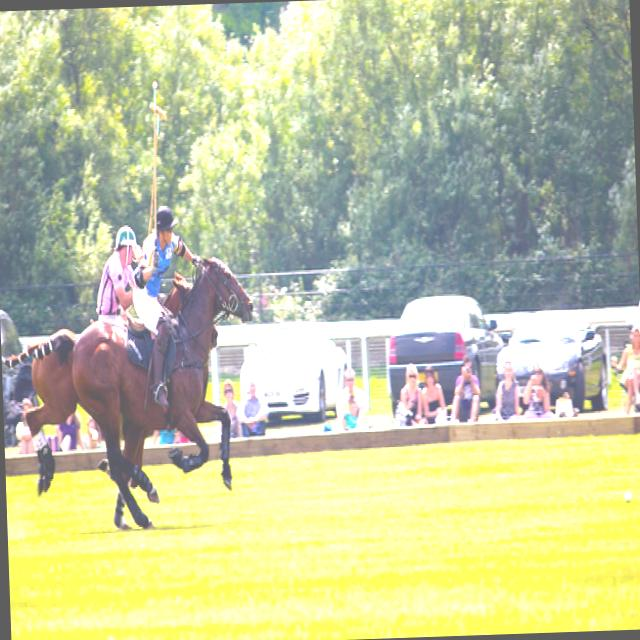Vehicle: (384, 292, 511, 416), (494, 309, 610, 412), (239, 313, 351, 414), (0, 306, 21, 358)
